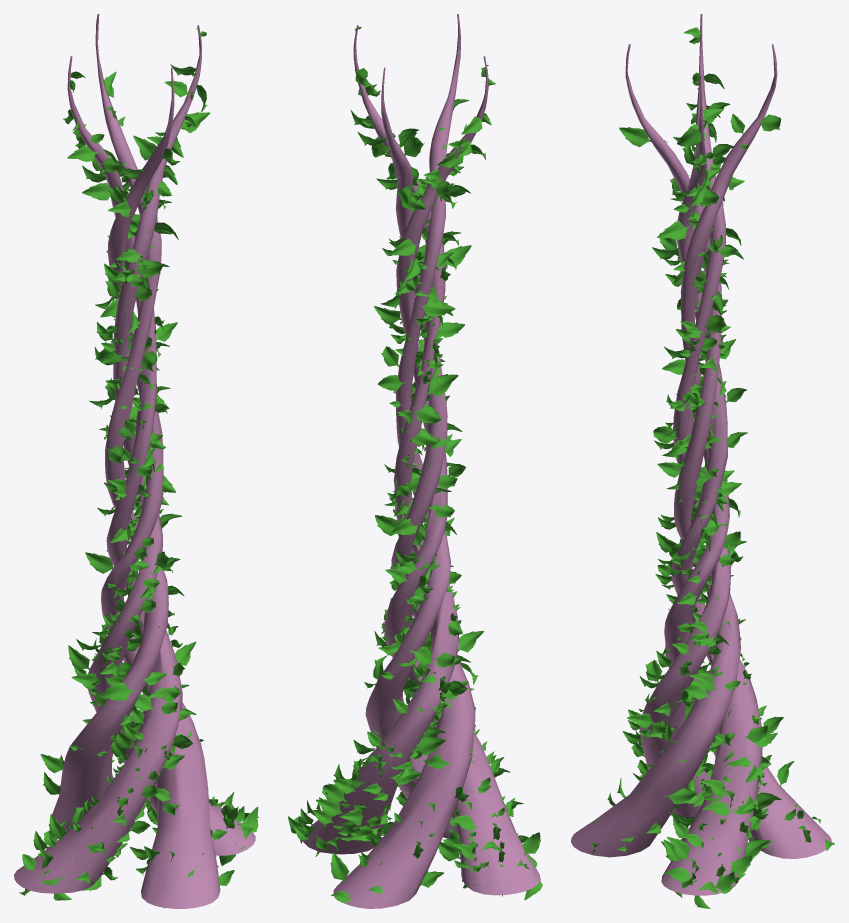
The model's file is Magic Flower.fbx.
The picture shows the model from 3 angles, left to right: view 1: azimuth 30°, elevation 25°; view 2: azimuth 150°, elevation 25°; view 3: azimuth 270°, elevation 25°; orthographic projection. The views are drawn at different scales.
Visible parts, largest first — view 1: Bark, Leaf; view 2: Bark, Leaf; view 3: Bark, Leaf.
Part boxes in pixels (<box>): Bark: <box>14,14,255,908</box>; Leaf: <box>19,28,259,908</box>; Bark: <box>302,14,540,908</box>; Leaf: <box>288,27,542,902</box>; Bark: <box>571,14,831,895</box>; Leaf: <box>591,27,834,908</box>.
Bounding box in the file's own units: 1.17 × 3.89 × 1.14.
